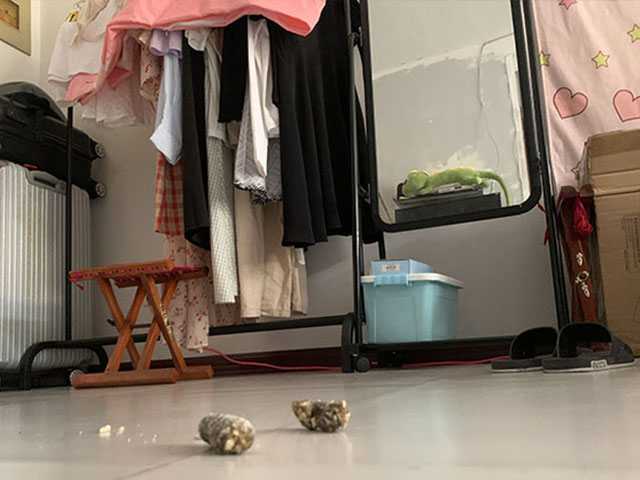feces: (197, 410, 257, 456), (289, 397, 352, 433)
slippers: (538, 322, 637, 374), (492, 326, 558, 373)
stool: (65, 256, 209, 390)
wire: (190, 343, 487, 372)
